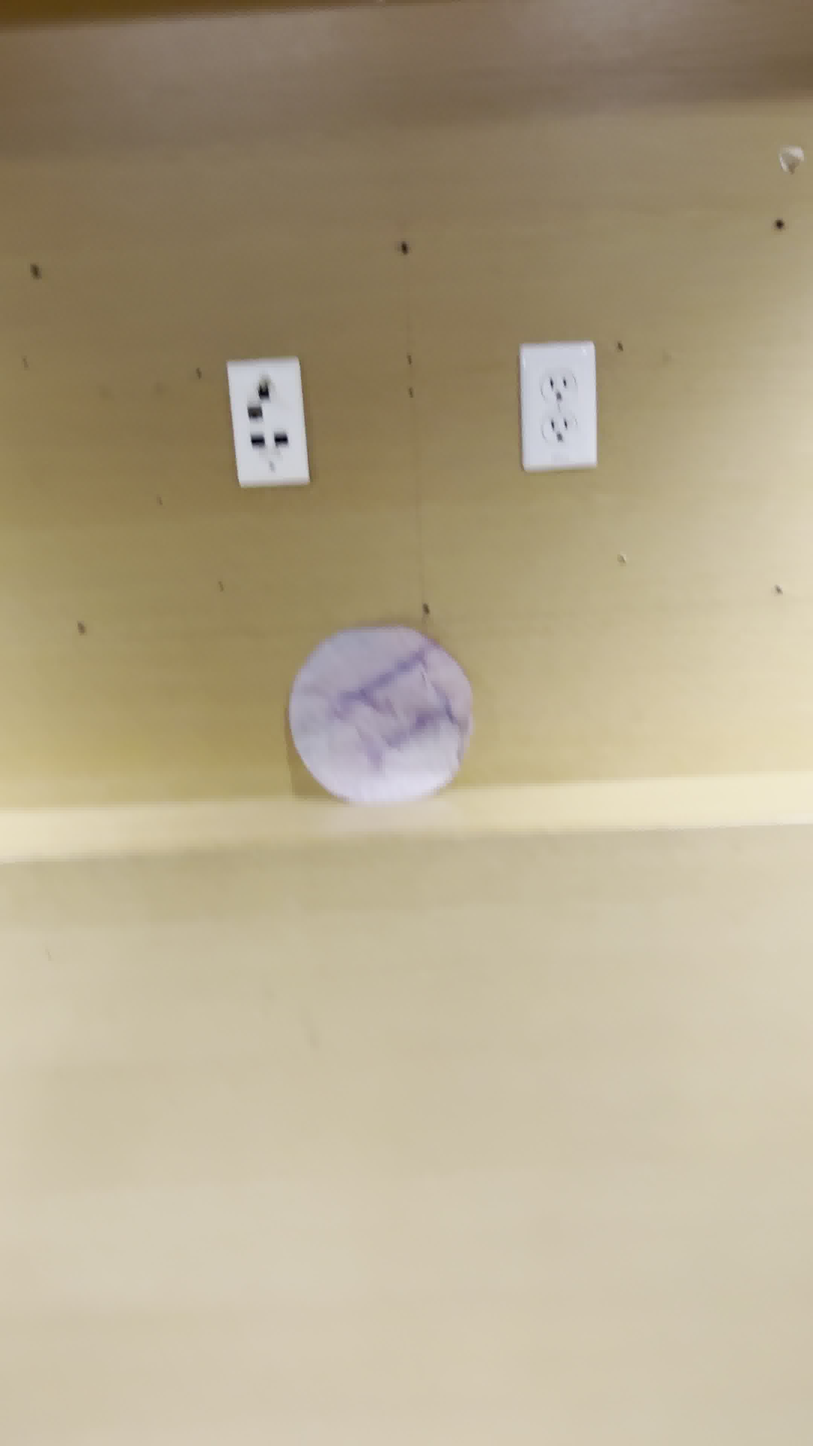Target: (275, 625, 482, 804)
